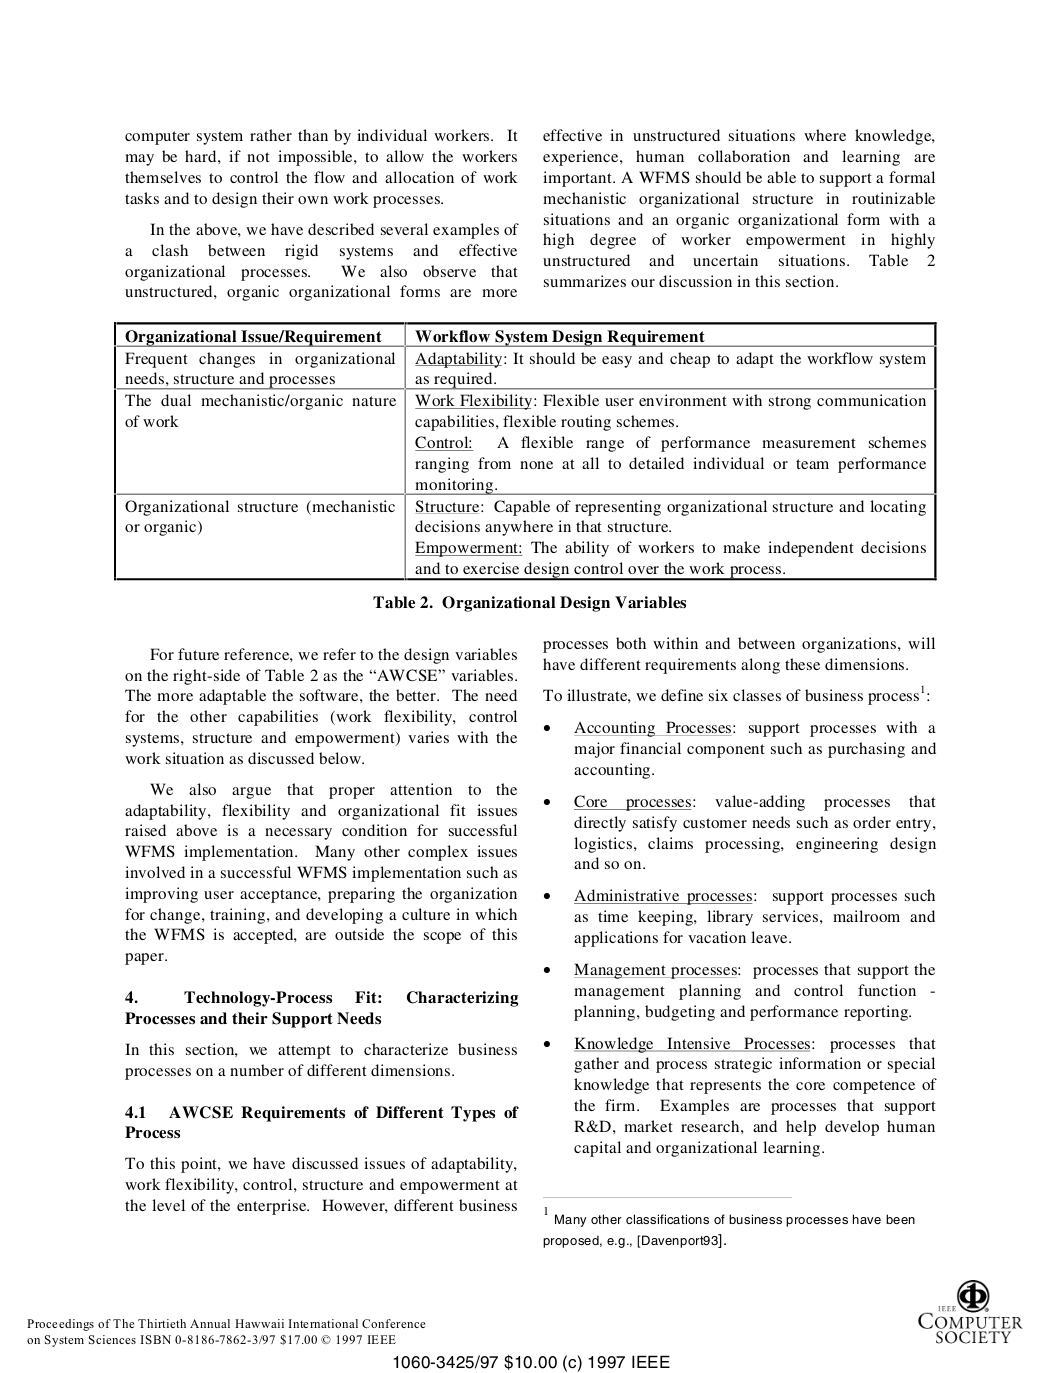Table: (114, 321, 936, 581)
figure: (918, 1278, 1022, 1344)
